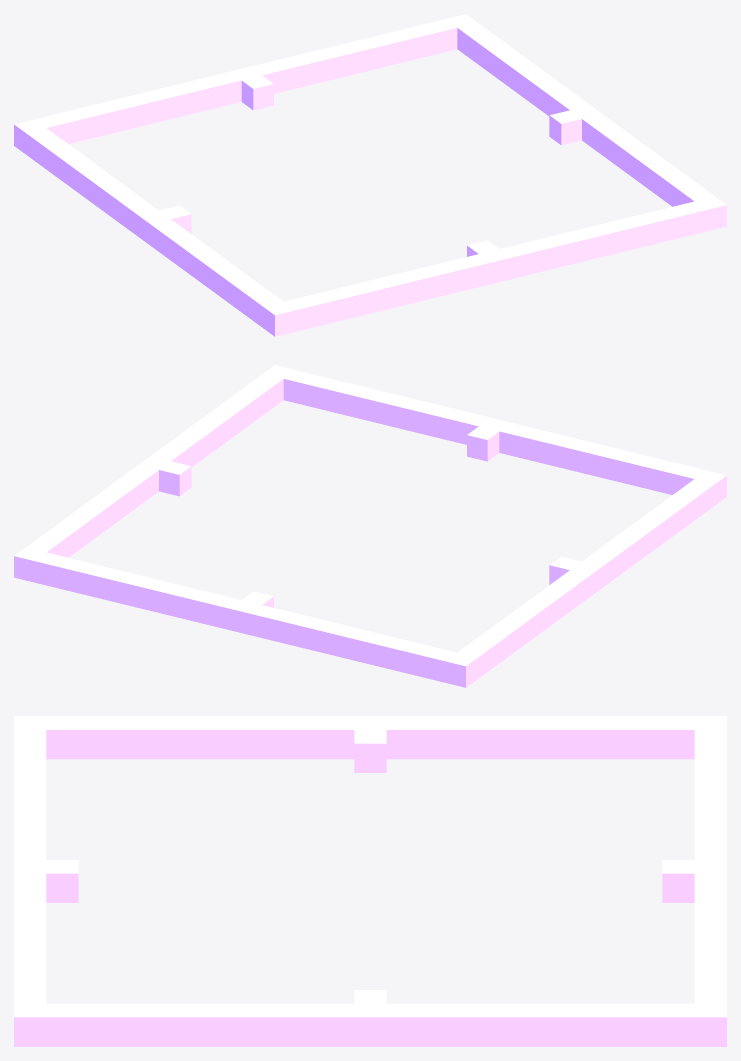
The model's file is basic_wall.dae.
3 renders of one model, top to bottom at view 1: azimuth 30°, elevation 25°; view 2: azimuth 150°, elevation 25°; view 3: azimuth 270°, elevation 25°, orthographic. The views are drawn at different scales.
Parts seen in each view (by area): view 1: Cube.003, Cube.002, Cube, Cube.001, Cube.007, Cube.006, Cube.010, Cube.011; view 2: Cube.002, Cube.003, Cube, Cube.001, Cube.006, Cube.005, Cube.008, Cube.009; view 3: Cube.001, Cube, Cube.003, Cube.002, Cube.011, Cube.009, Cube.007, Cube.005, Cube.004.
Part boxes in pixels (box(x1,y1,x2,y2)): Cube.003: box(284, 201, 706, 331); Cube.002: box(35, 19, 457, 143); Cube: box(26, 128, 283, 327); Cube.001: box(457, 23, 714, 206); Cube.007: box(241, 75, 273, 110); Cube.006: box(549, 110, 581, 145); Cube.010: box(263, 302, 295, 336); Cube.011: box(695, 196, 726, 231); Cube.002: box(34, 552, 456, 682); Cube.003: box(283, 370, 705, 494); Cube: box(457, 479, 714, 678); Cube.001: box(26, 374, 283, 557); Cube.006: box(159, 461, 191, 496); Cube.005: box(467, 426, 499, 461); Cube.008: box(445, 653, 477, 687); Cube.009: box(14, 547, 45, 582); Cube.001: box(46, 1003, 694, 1046); Cube: box(46, 716, 694, 759); Cube.003: box(14, 730, 46, 1003); Cube.002: box(694, 730, 726, 1003); Cube.011: box(14, 1003, 46, 1046); Cube.009: box(694, 1003, 726, 1046); Cube.007: box(662, 860, 694, 902); Cube.005: box(46, 860, 78, 902); Cube.004: box(354, 730, 386, 772).
Size of the model in its own units: 44 by 44 by 2.
